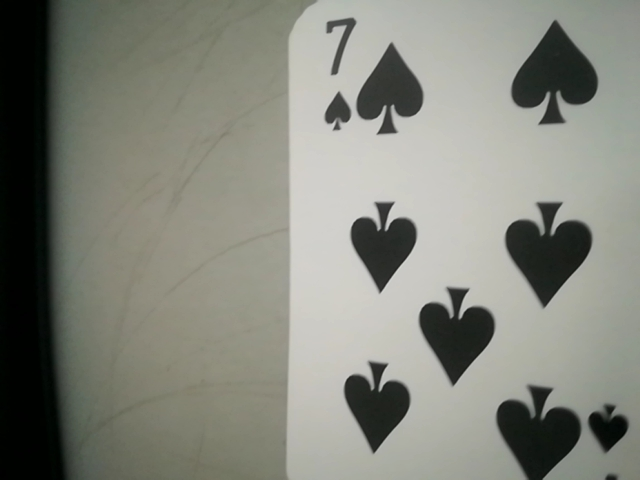ht 7: (296, 14, 363, 139)
